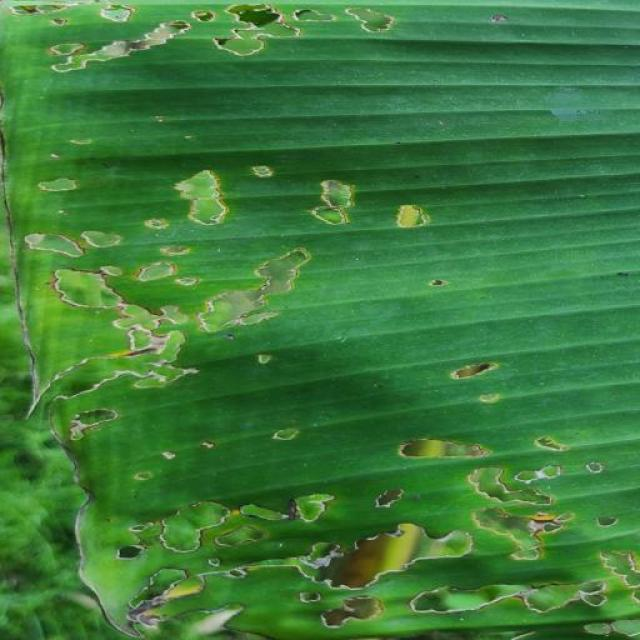Black_rot: (0, 132, 514, 438), (12, 439, 640, 640), (4, 1, 427, 97)
